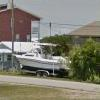Boat: (12, 45, 79, 80)
